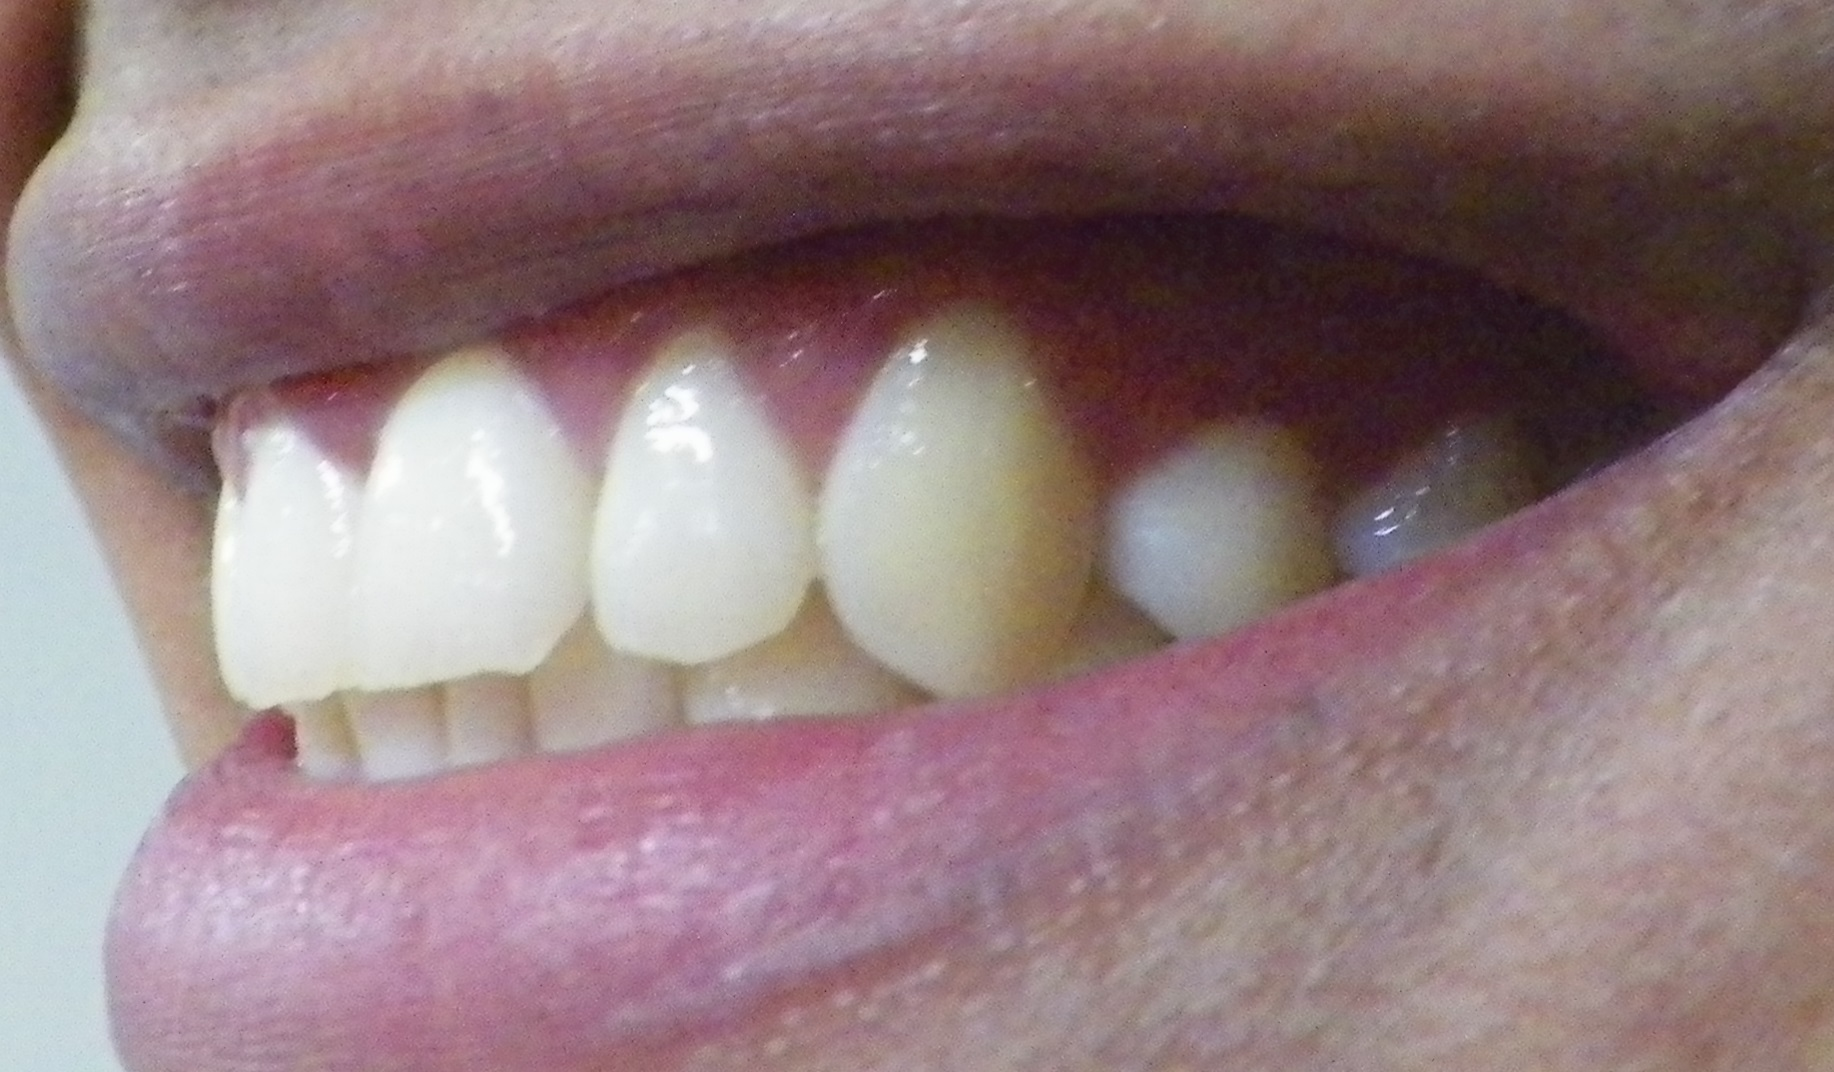boca: (211, 302, 1523, 780)
